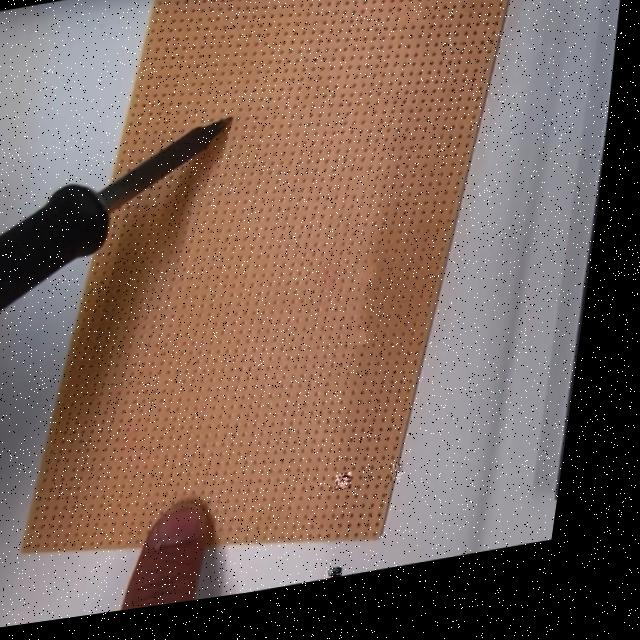soldering_iron: (0, 113, 236, 343)
